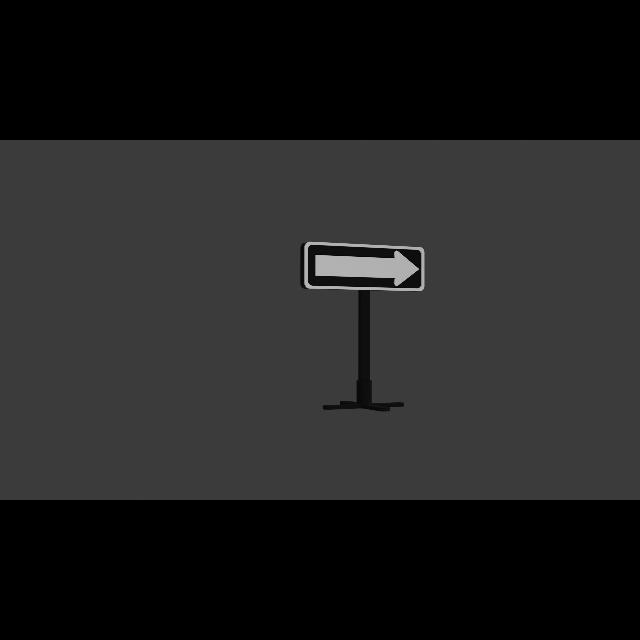sign_oneway_right: (302, 241, 427, 295)
